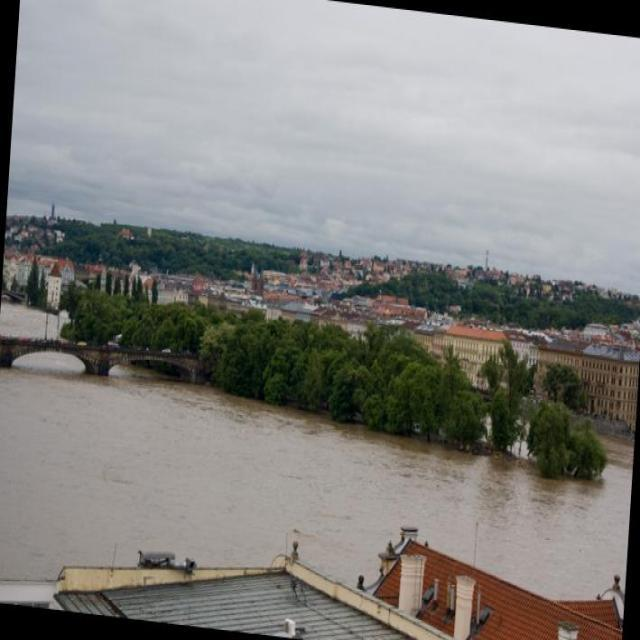flood: (0, 282, 639, 637)
